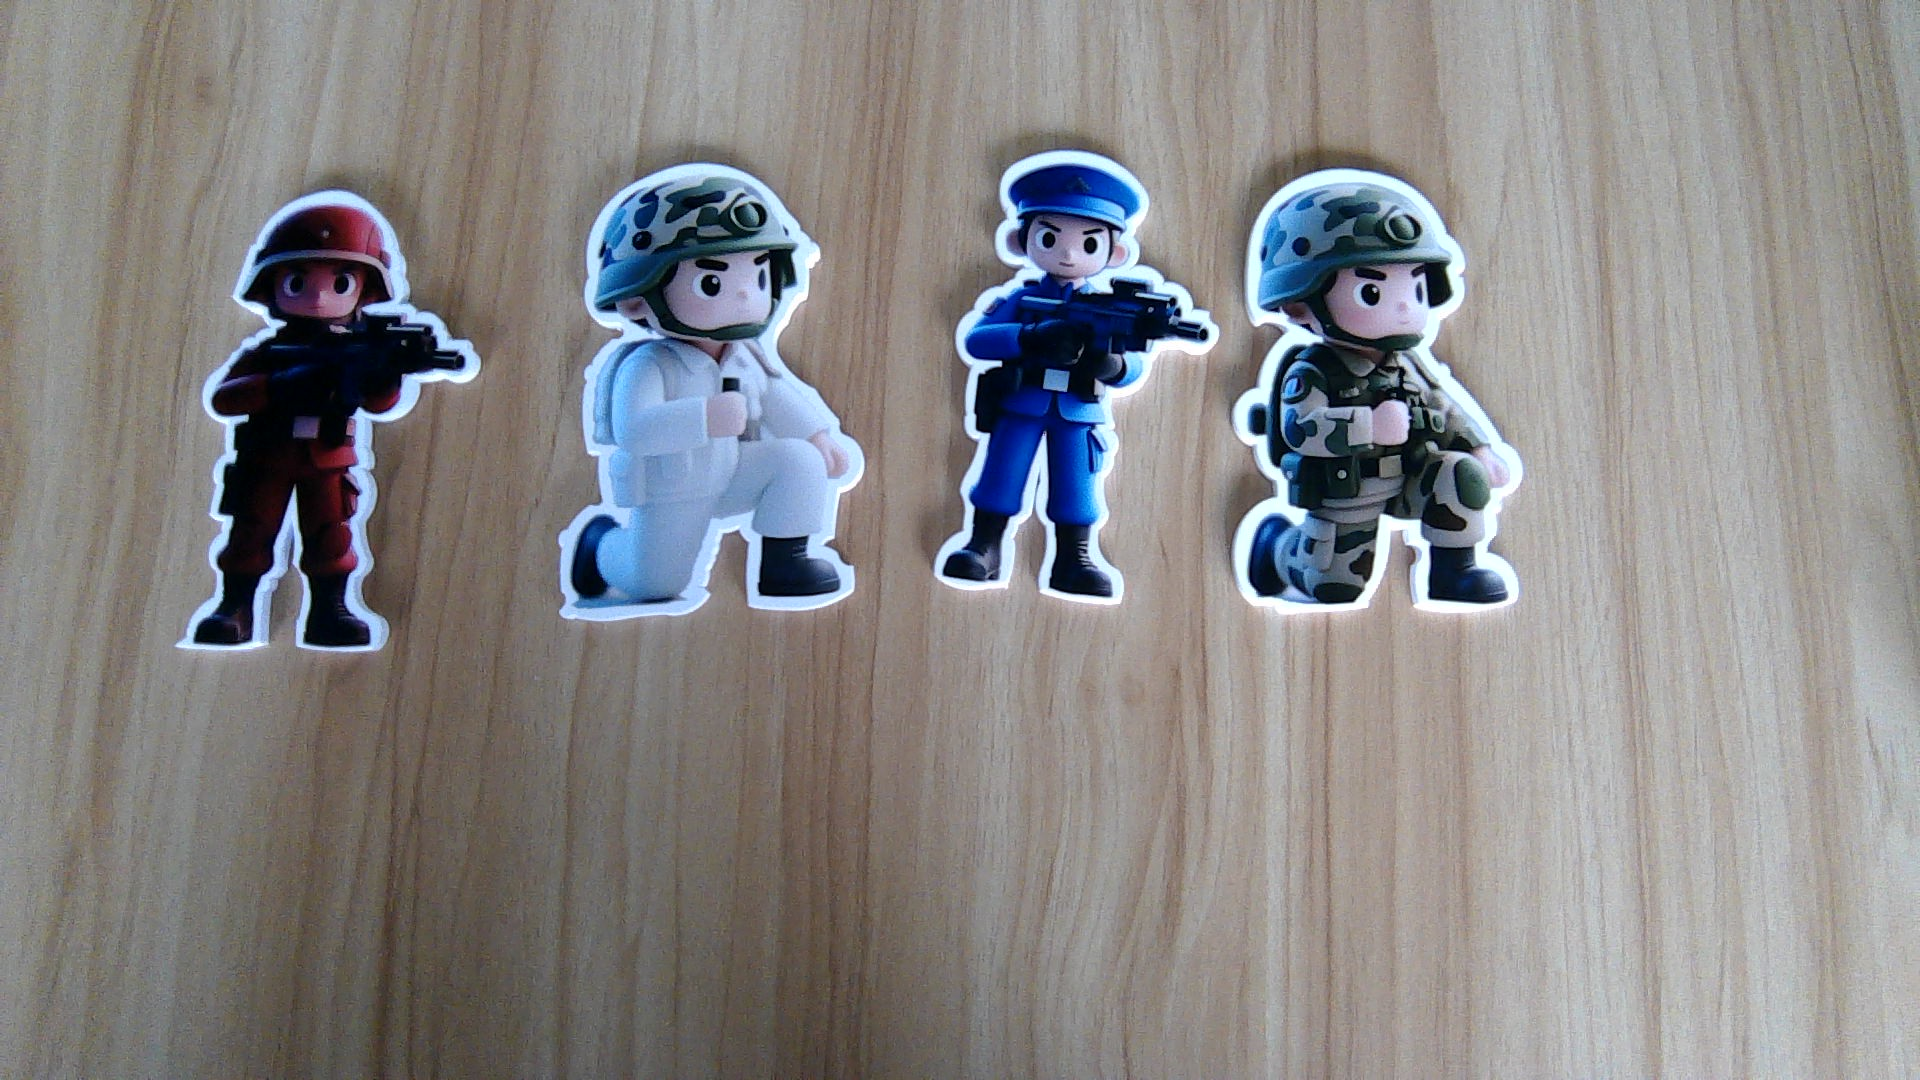人质: (549, 339, 876, 624)
友军: (1222, 342, 1542, 621)
敌人1: (173, 324, 484, 654)
敌人2: (926, 273, 1220, 603)
